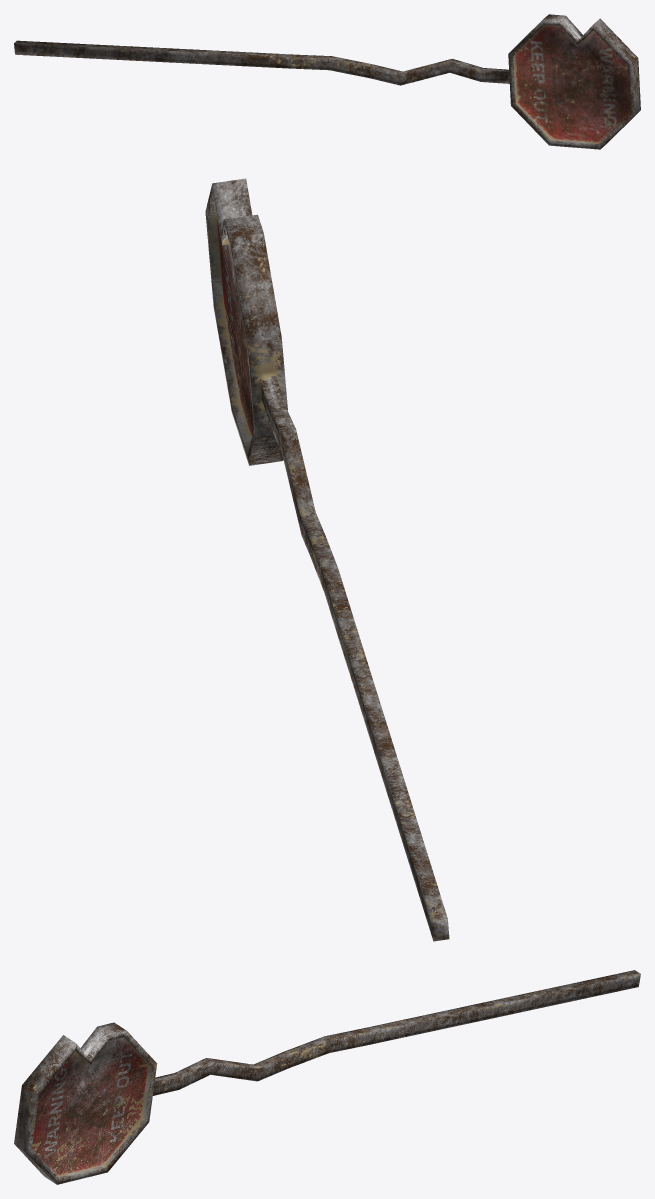
The model's file is Anim_idle_senyal_objetos.0053.obj.
The picture shows the model from 3 angles, top to bottom: view 1: azimuth 30°, elevation 25°; view 2: azimuth 150°, elevation 25°; view 3: azimuth 270°, elevation 25°; orthographic projection. The views are drawn at different scales.
Size of the model in its own units: 8.08 by 2.59 by 9.86.
